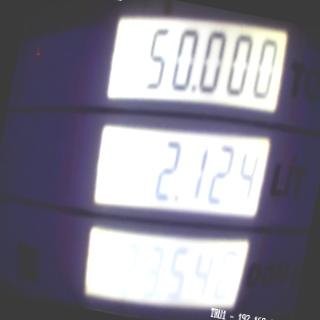screen: (59, 0, 300, 320)
